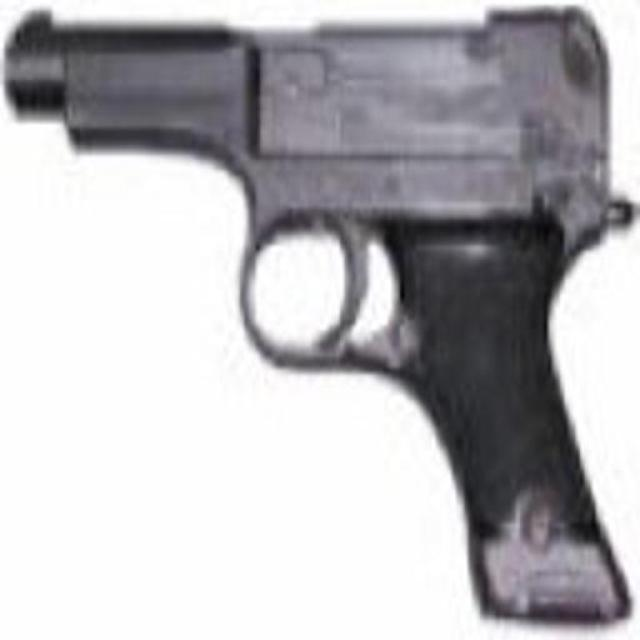pistol: (11, 10, 631, 624)
